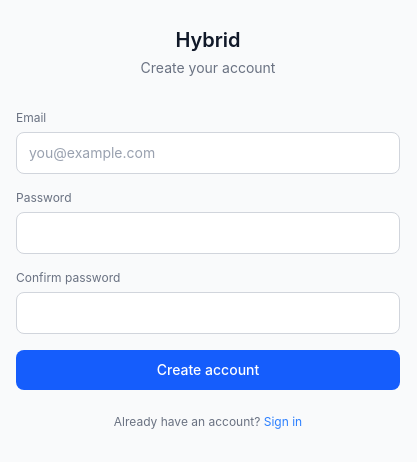
SignupPage › shows the error message when signUp fails
Type "slade@example.com" into the field with placeholder "you@example.com" at [208, 153], box [16,132,400,174]
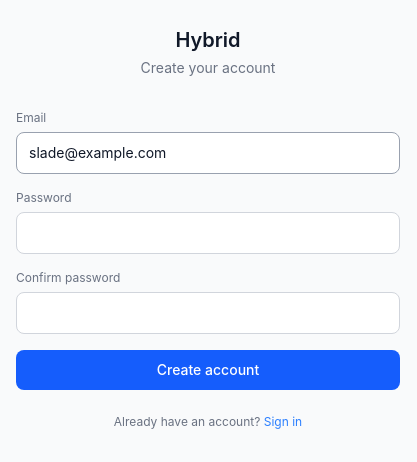
Type "hunter2" into the 1st password field at [208, 233], box [16,212,400,254]
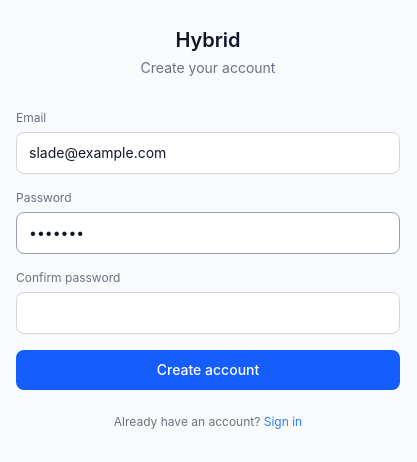
Type "hunter2" into the password field below "Confirm password" at [208, 313], box [16,292,400,334]
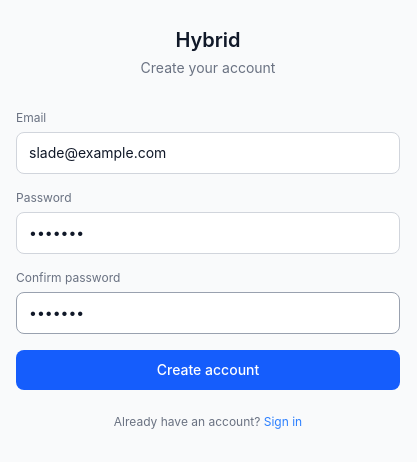
Click the button "Create account" at [208, 370], box [16,350,400,390]
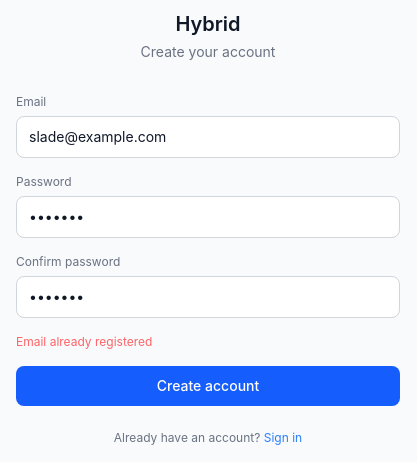
Check: the text "Email already registered" is shown, box [16,334,152,349]
